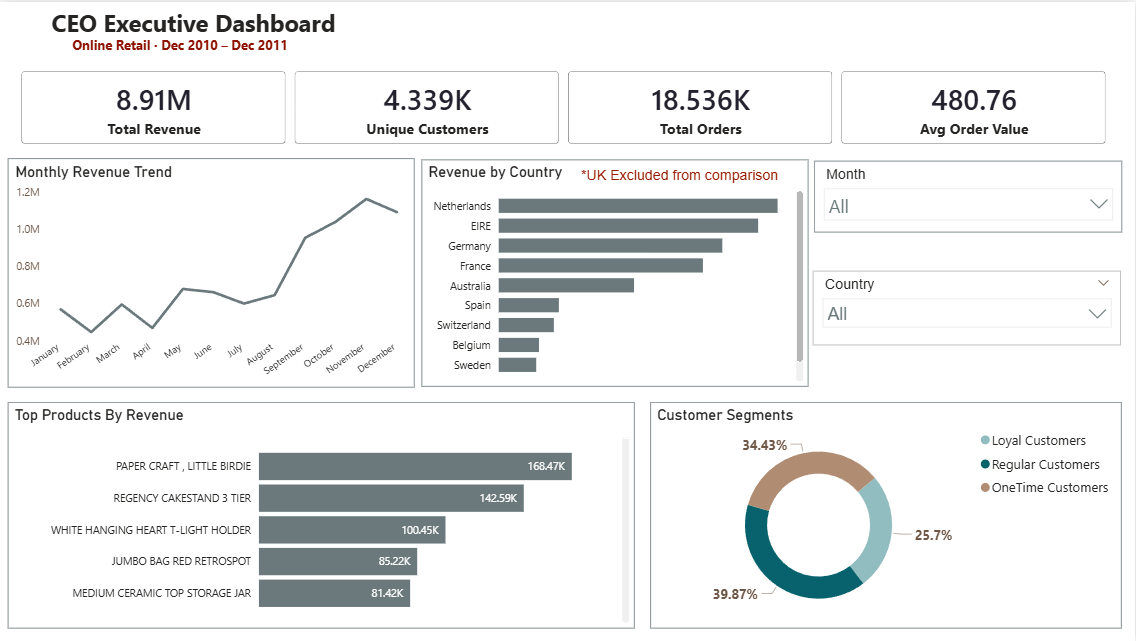

Layout of this report page (visuals, bound fields, positions):
{"tool":"powerbi","page":{"name":"Page 1","canvas":[1280,720],"ordinal":0},"visuals":[{"type":"textbox","box":[14.1,0,387.3,67.6],"z":0,"group":"g2"},{"type":"cardVisual","fields":{"Data":["Sum(online_retail_db retail.Revenue)","Count(online_retail_db retail.CustomerID)","Count(online_retail_db retail.InvoiceNo)","retail.Avg Order Value"]},"box":[9.9,67.6,1254.9,102.8],"z":0},{"type":"textbox","box":[77.4,33.8,280.3,33.8],"z":1000,"group":"g2"},{"type":"lineChart","title":"Monthly Revenue Trend","fields":{"Category":["online_retail_db retail.Invoice_Date.Variation.Date Hierarchy.Month"],"Y":["Sum(online_retail_db retail.Revenue)"]},"box":[9.7,176.1,458.4,258.2],"z":1000},{"type":"clusteredBarChart","title":"Revenue by Country","fields":{"Y":["Sum(online_retail_db retail.Revenue)"],"Category":["online_retail_db retail.Country"]},"box":[476.2,177.5,436.2,256.2],"z":2000,"group":"g1"},{"type":"clusteredBarChart","title":"Top Products By Revenue","fields":{"Y":["Sum(online_retail_db retail.Revenue)"],"Category":["online_retail_db retail.Description"]},"box":[10,450,706.2,255],"z":2000},{"type":"slicer","title":"Dates","fields":{"Values":["retail.Invoice_Date.Variation.Date Hierarchy.Month"]},"box":[918.1,178.6,347.5,80.8],"z":3000},{"type":"textbox","box":[650.8,181.7,250.9,31.4],"z":3007,"group":"g1"},{"type":"donutChart","title":"Customer Segments","fields":{"Y":["retail.Loyal Customers","retail.Regular Customers","retail.OneTime Customers"]},"box":[733.8,450,531.2,255],"z":4000},{"type":"slicer","fields":{"Values":["retail.Country"]},"box":[917.1,303.3,347.3,84.4],"z":5000},{"type":"group","id":"g1","title":"Group 1","box":[476.2,177.5,436.2,256.2],"z":6000},{"type":"group","id":"g2","title":"Group 2","box":[14.1,0,387.3,67.6],"z":7000}]}

Visuals, with their boxes in screenshot pixels (x1, y1, x2, y2), scaled from the page's 1280x720 canvas onto the 1136x641 screenshot:
textbox: BBox(13, 0, 356, 60)
cardVisual - Sum(online_retail_db retail.Revenue) x Count(online_retail_db retail.CustomerID): BBox(9, 60, 1123, 152)
textbox: BBox(69, 30, 317, 60)
"Monthly Revenue Trend" lineChart: BBox(9, 157, 415, 387)
"Revenue by Country" clusteredBarChart: BBox(423, 158, 810, 386)
"Top Products By Revenue" clusteredBarChart: BBox(9, 401, 636, 628)
"Dates" slicer: BBox(815, 159, 1123, 231)
textbox: BBox(578, 162, 800, 190)
"Customer Segments" donutChart: BBox(651, 401, 1123, 628)
slicer - retail.Country: BBox(814, 270, 1122, 345)
"Group 1" group: BBox(423, 158, 810, 386)
"Group 2" group: BBox(13, 0, 356, 60)
